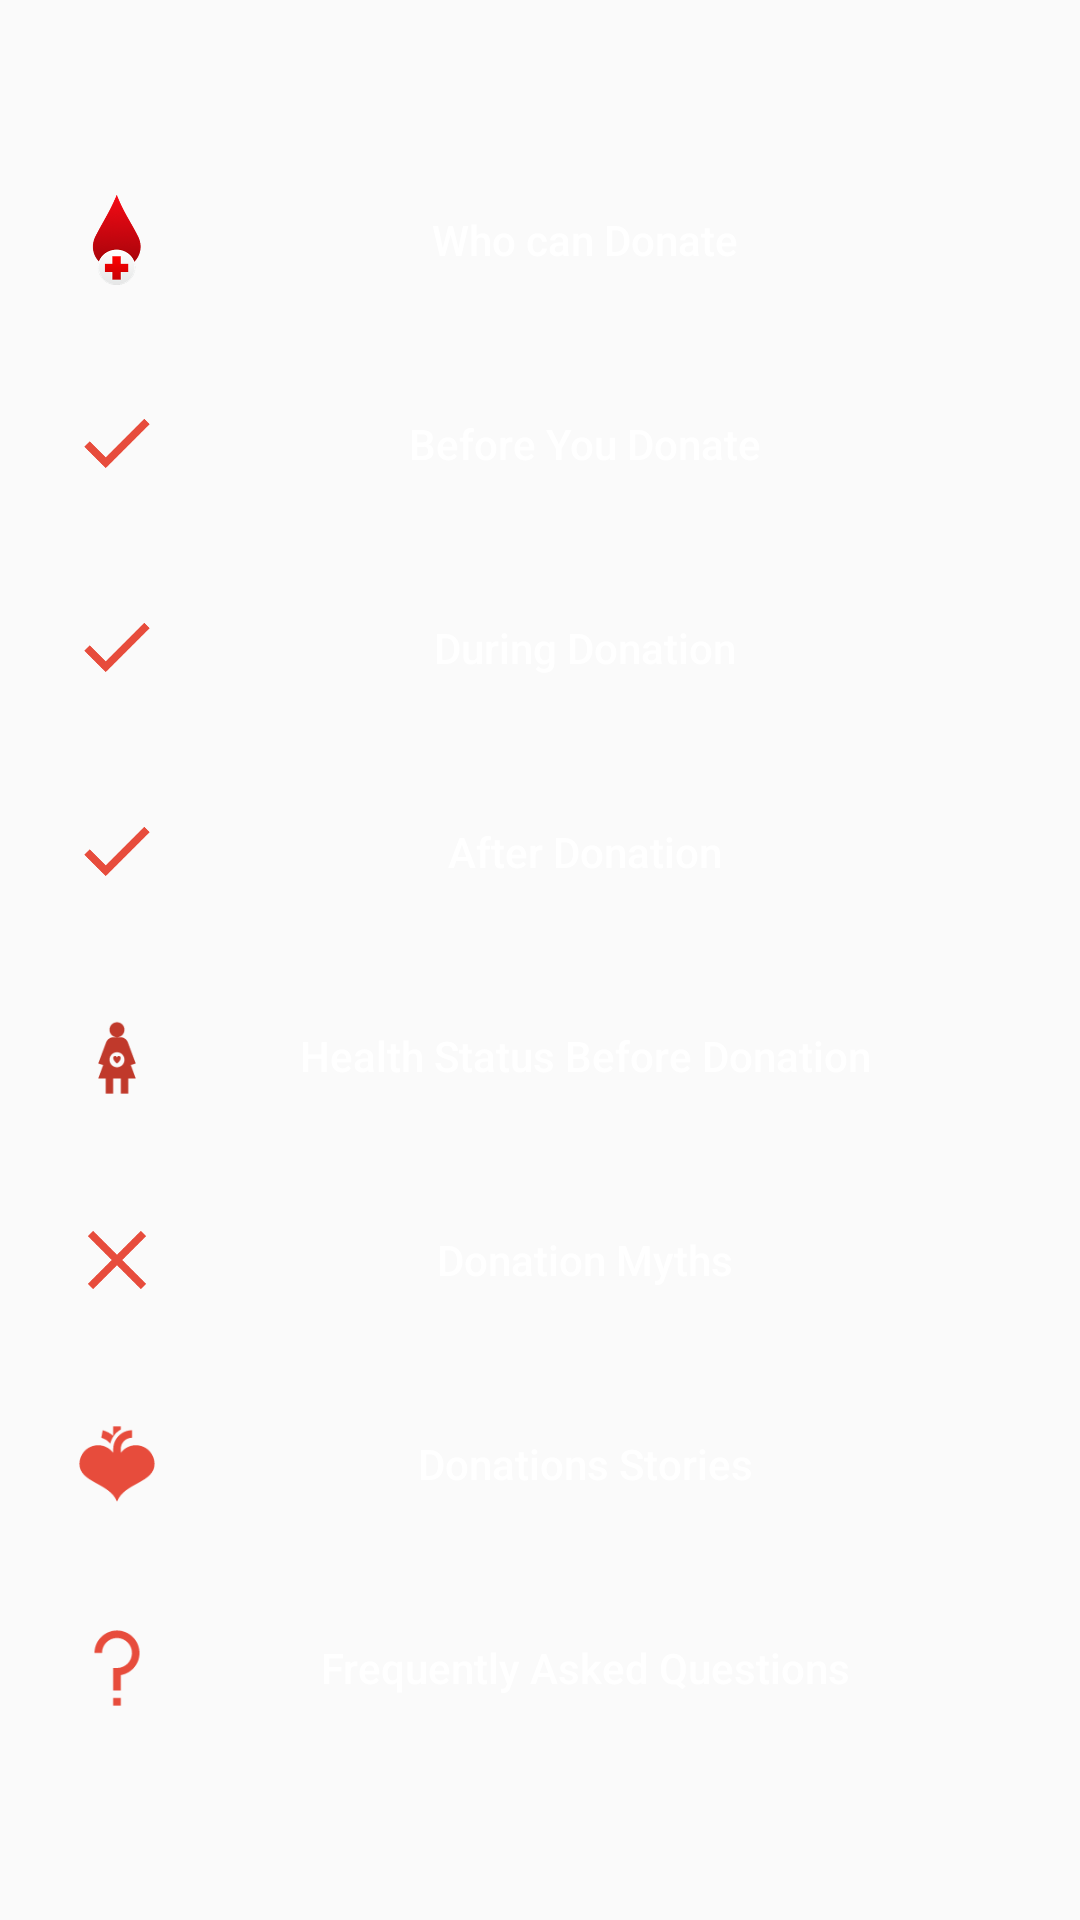

Where to tap for icons on this 1080*1920 app screen, as (x=x, y=y):
cross: (x=117, y=1260)
donationcenter: (x=117, y=237)
heart: (x=117, y=1463)
pregnant: (x=117, y=1058)
tick: (x=117, y=443), (x=117, y=647), (x=117, y=851)
